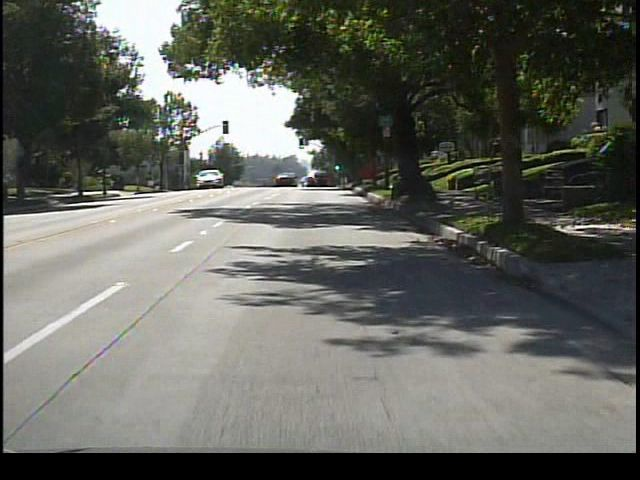person: (497, 149, 523, 200)
